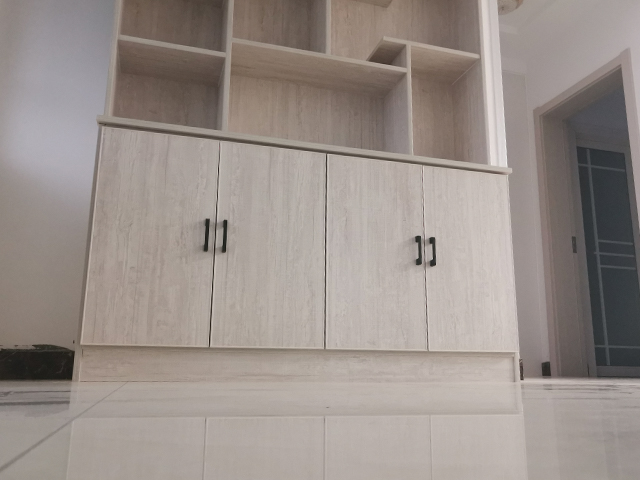cabinet: (70, 108, 516, 384)
